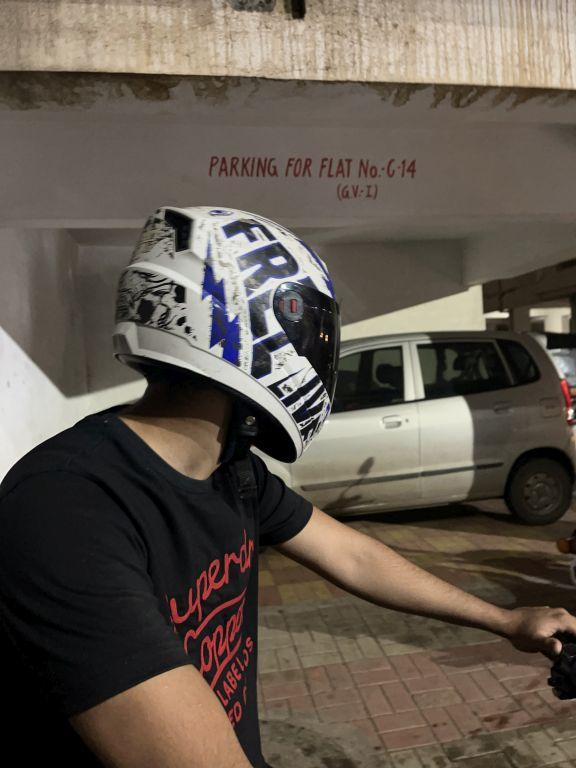helmet: (99, 189, 346, 479)
